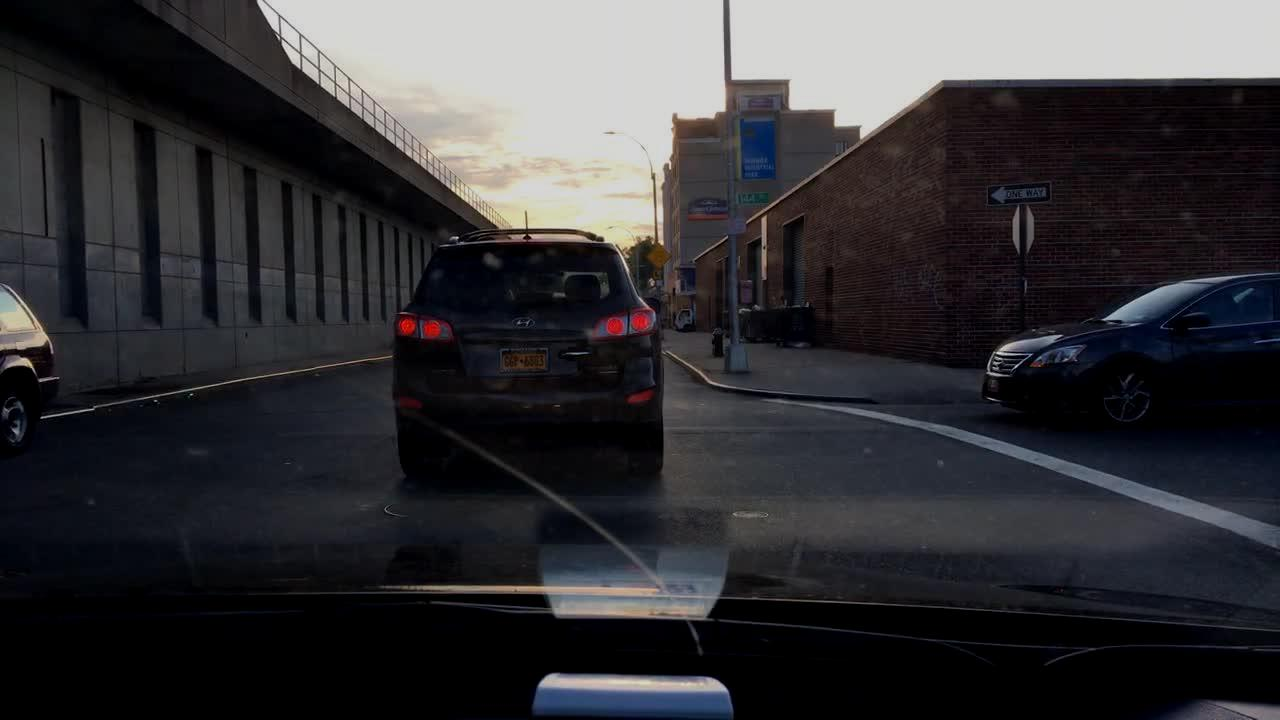Hyundai: (501, 310, 542, 338)
